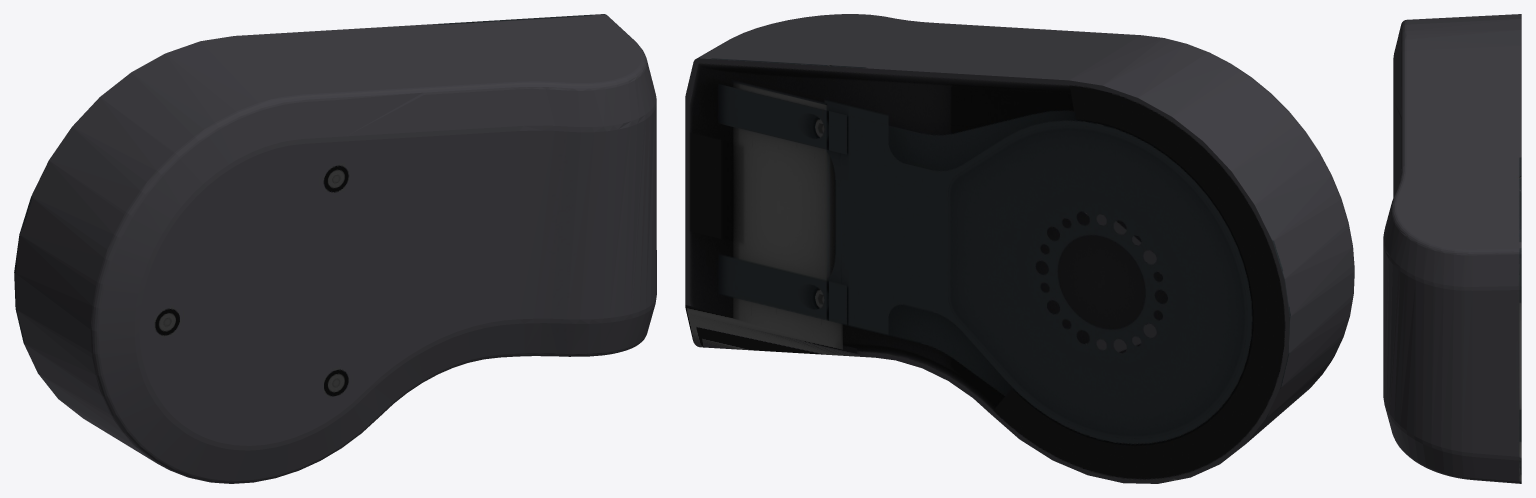
File: shank_r.dae
The picture shows the model from 3 angles, left to right: view 1: azimuth 30°, elevation 25°; view 2: azimuth 150°, elevation 25°; view 3: azimuth 270°, elevation 25°; orthographic projection. The views are drawn at different scales.
Parts seen in each view (by area): view 1: AM3 Leg.001; view 2: AM3 Leg.001; view 3: AM3 Leg.001.
Part boxes in pixels (<box>): AM3 Leg.001: <box>14,14,656,483</box>; AM3 Leg.001: <box>685,14,1354,483</box>; AM3 Leg.001: <box>1383,14,1521,483</box>.
Size of the model in its own units: 0.1927 by 0.047 by 0.1198.
Materials: 1 (1 with a texture image).
